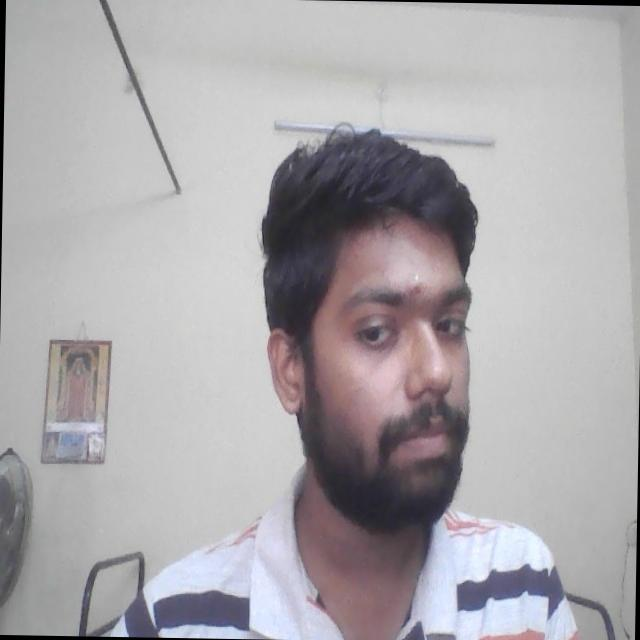Focused: (289, 227, 482, 499)
